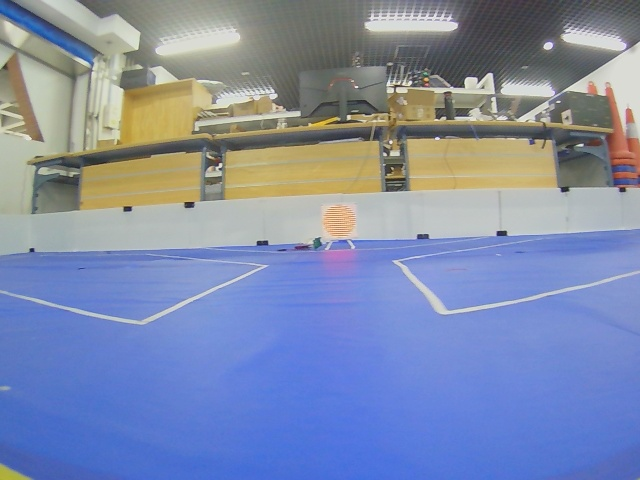red: (322, 204, 357, 239)
